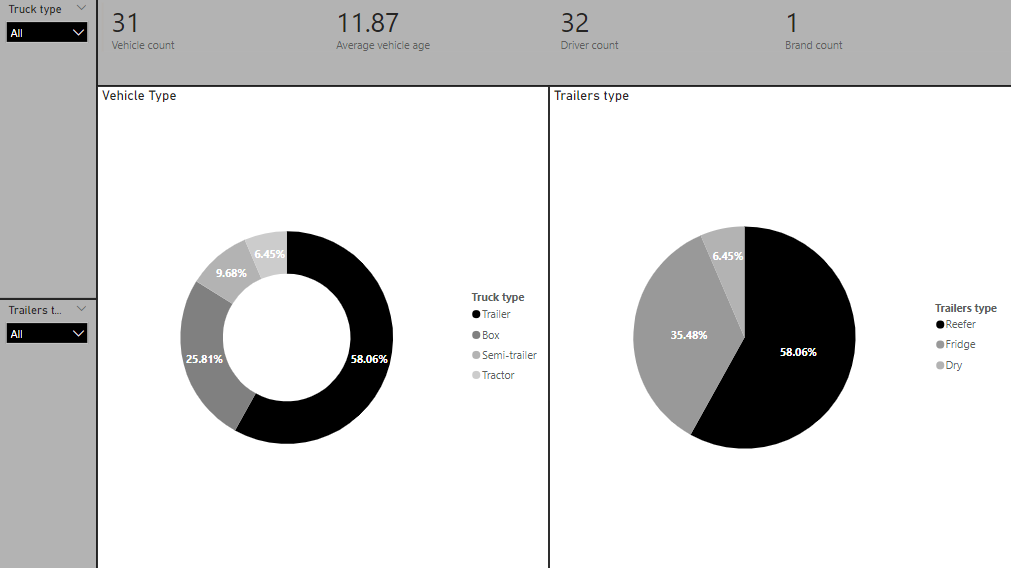

The page's visual inventory and layout, read from the dashboard file:
{"tool":"powerbi","page":{"name":"Fleet Overview","canvas":[1280,720],"ordinal":0},"visuals":[{"type":"multiRowCard","fields":{"Values":["Vehicles.Vehicle count","Vehicles.Average vehicle age","Drivers.Driver count","Vehicles.Brand count"]},"box":[125.5,0,1146.7,109.9],"z":0},{"type":"donutChart","title":" Vehicle Type","fields":{"Y":["CountNonNull(Vehicles.Truck type)"],"Category":["Vehicles.Truck type"]},"box":[125.5,109.9,565.1,609.8],"z":1000},{"type":"pieChart","title":" Trailers type ","fields":{"Category":["Vehicles.Trailers type"],"Y":["CountNonNull(Vehicles.Trailers type)"]},"box":[690.6,109.9,581.6,609.8],"z":2000},{"type":"slicer","fields":{"Values":["Vehicles.Trailers type"]},"box":[0,376.4,125.5,343.3],"z":3000},{"type":"slicer","fields":{"Values":["Vehicles.Truck type"]},"box":[0,0,125.5,376.4],"z":4000}]}

Visuals, with their boxes on the page's 1280x720 design canvas (x1, y1, x2, y2). These are canvas units, not pixel positions in the 1011x568 screenshot, which may show the page scaled, cropped or inside an application window:
multiRowCard - Vehicles.Vehicle count x Vehicles.Average vehicle age: bbox=(126, 0, 1272, 110)
" Vehicle Type" donutChart: bbox=(126, 110, 691, 720)
" Trailers type " pieChart: bbox=(691, 110, 1272, 720)
slicer - Vehicles.Trailers type: bbox=(0, 376, 126, 720)
slicer - Vehicles.Truck type: bbox=(0, 0, 126, 376)
